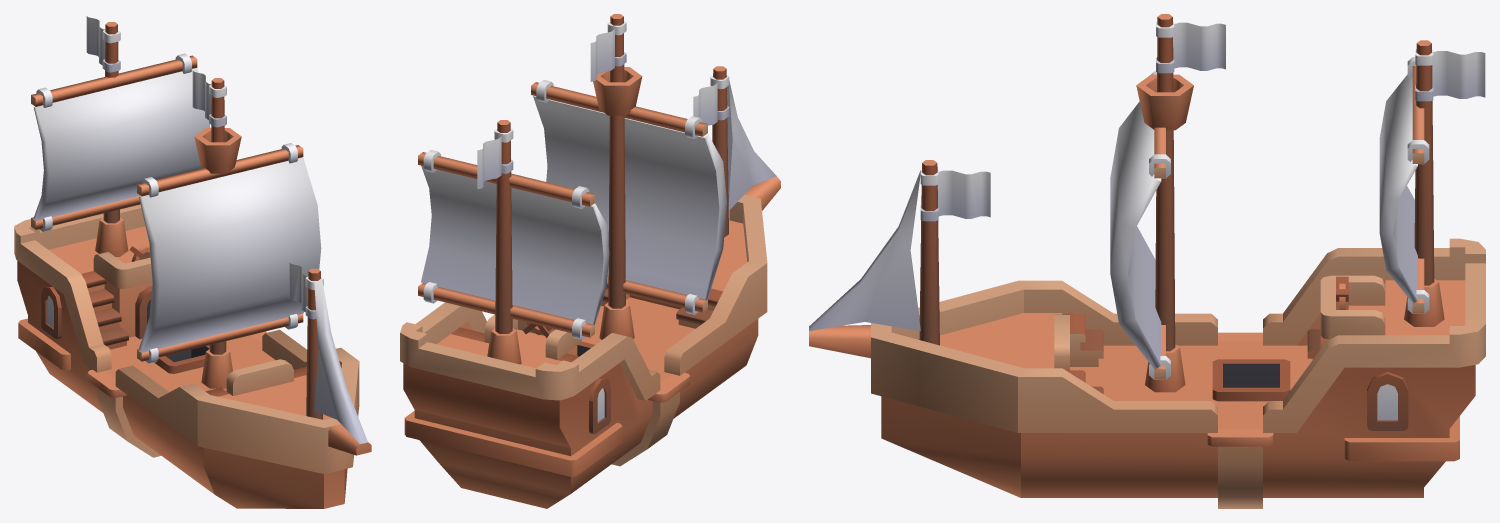
Rendered from ship_large.glb.
3 renders of one model, left to right at view 1: azimuth 30°, elevation 25°; view 2: azimuth 150°, elevation 25°; view 3: azimuth 270°, elevation 25°, orthographic. The views are drawn at different scales.
Visible parts, largest first — view 1: ship-large; view 2: ship-large; view 3: ship-large.
Boxes of the visible parts, x1,y1,x2,y2 form: ship-large: [14, 16, 371, 508]; ship-large: [400, 14, 780, 508]; ship-large: [809, 14, 1485, 508].
Size of the model in its own units: 4.8 by 9.96 by 13.1.
Materials: 1 (1 with a texture image).
